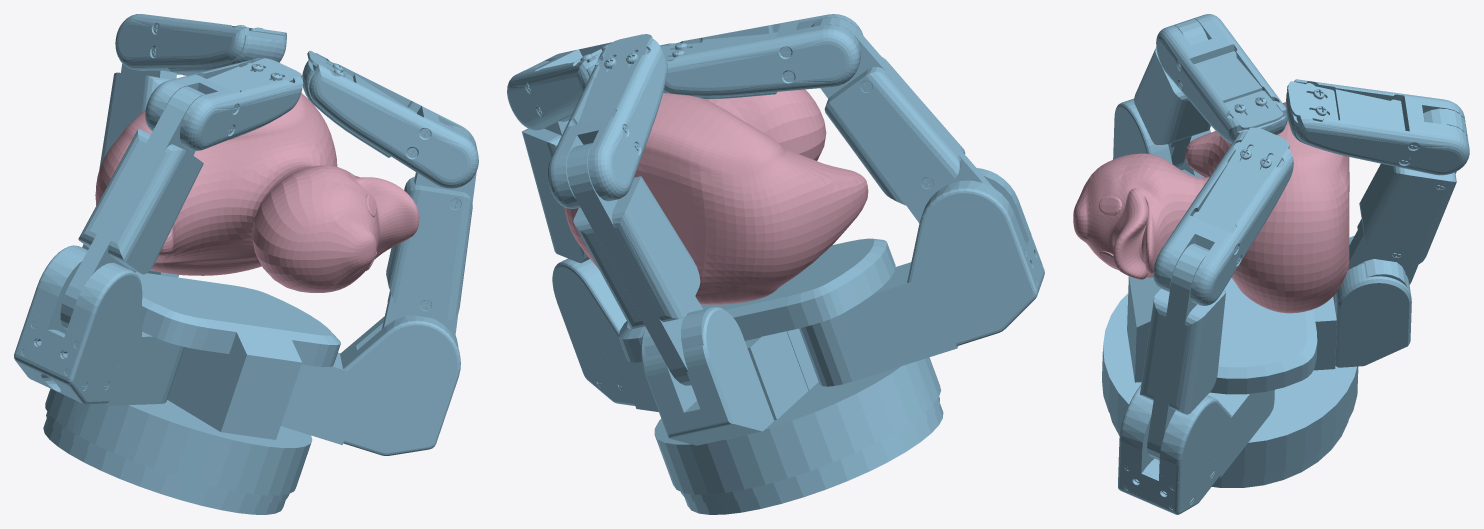
The picture shows the model from 3 angles, left to right: view 1: azimuth 30°, elevation 25°; view 2: azimuth 150°, elevation 25°; view 3: azimuth 270°, elevation 25°; orthographic projection. The views are drawn at different scales.
Parts seen in each view (by area): view 1: world; view 2: world; view 3: world.
Part boxes in pixels (x1,y1,x2,y2): world: [14, 14, 478, 514]; world: [507, 14, 1044, 514]; world: [1073, 14, 1469, 514].
Bounding box in the file's own units: 0.1846 × 0.1617 × 0.1376.
